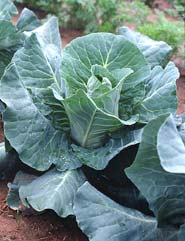cabbage: (0, 15, 184, 240)
